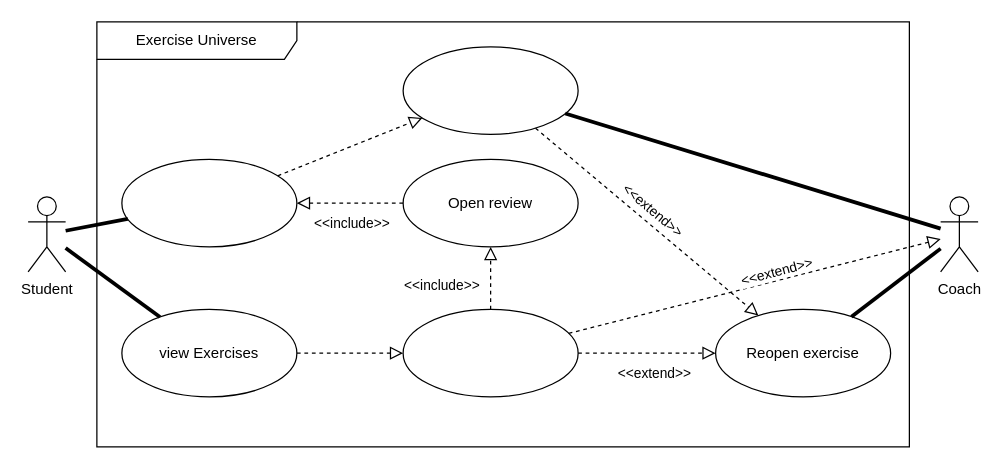
Image size: 1003x469. Some labels were removed from this diagram. The shapes that lost their labels are listed below. From the top down, each one's centre as x and y in pixels, then its label:
At [490,90]: "Close review".
At [209,202]: "Reviews".
At [490,352]: "Submit exercise".
